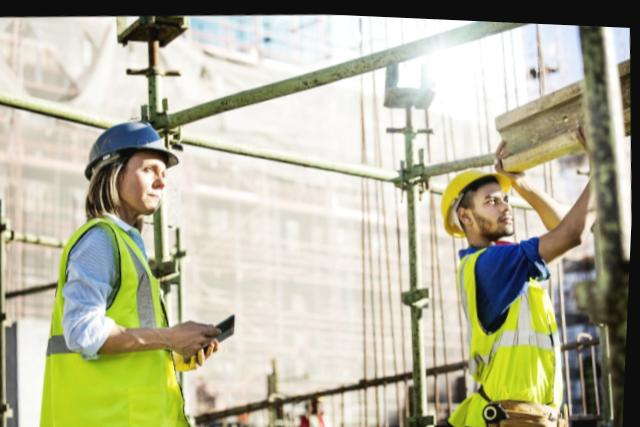helmet: (86, 111, 180, 175), (444, 157, 517, 233)
vest: (42, 215, 199, 427), (455, 238, 575, 414)
